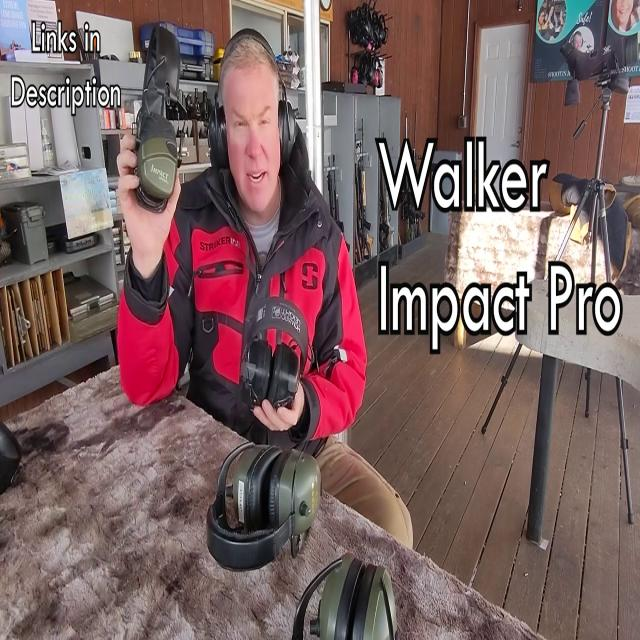earmuff: (137, 108, 181, 200), (277, 94, 302, 166), (207, 102, 232, 172)
